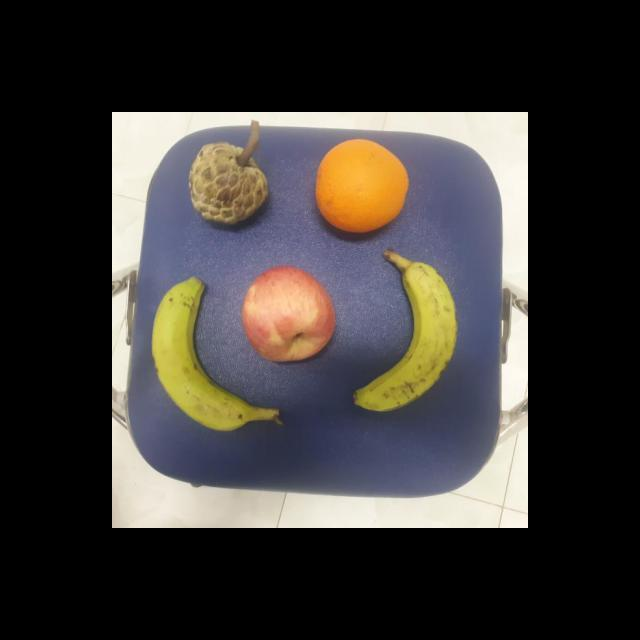Sakya fruit: (187, 140, 272, 224)
apple: (241, 264, 337, 366)
banana: (149, 275, 282, 431), (354, 246, 458, 416)
orange: (314, 137, 412, 238)
